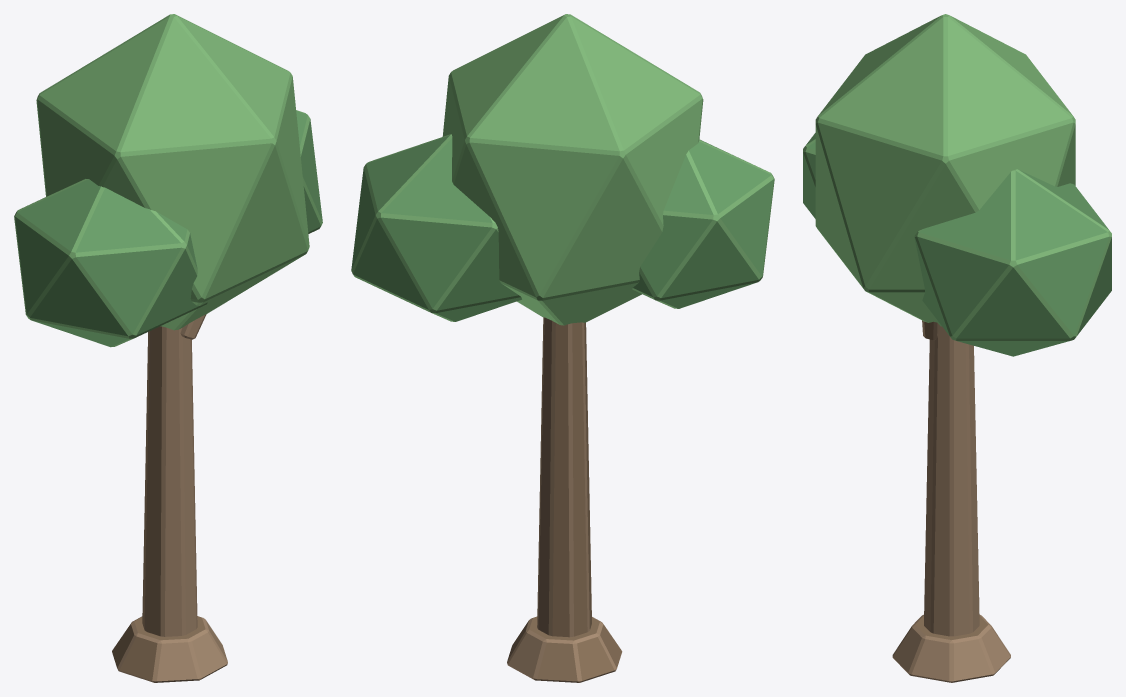
File: 植被_行道树_02.fbx
3 views of the same model, side by side, from view 1: azimuth 30°, elevation 25°; view 2: azimuth 150°, elevation 25°; view 3: azimuth 270°, elevation 25° (orthographic).
Visible parts, largest first — view 1: 树冠.003, 树干.003; view 2: 树冠.003, 树干.003; view 3: 树冠.003, 树干.003.
Part boxes in pixels (bbox=[...]): 树冠.003: bbox=[14, 14, 322, 347]; 树干.003: bbox=[112, 314, 227, 682]; 树冠.003: bbox=[351, 14, 774, 325]; 树干.003: bbox=[507, 317, 622, 682]; 树冠.003: bbox=[803, 14, 1111, 356]; 树干.003: bbox=[892, 320, 1010, 682].
Size of the model in its own units: 319 by 576 by 251.
